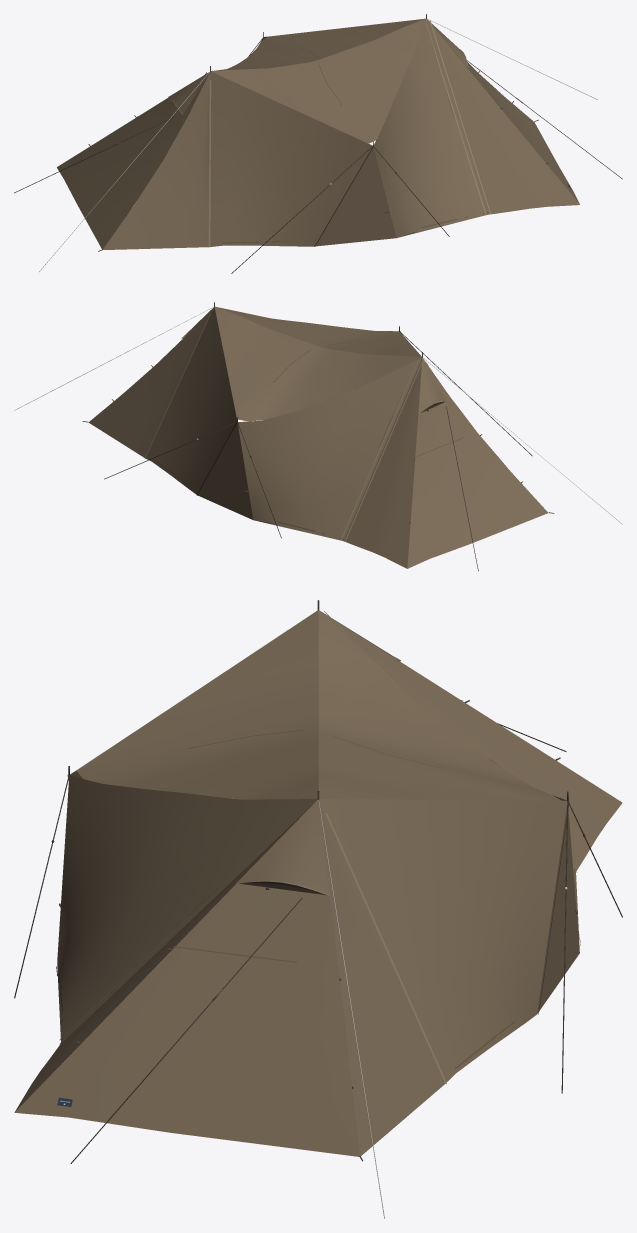
Rendered from snowpeak-land-station-m.glb.
3 renders of one model, top to bottom at view 1: azimuth 30°, elevation 25°; view 2: azimuth 150°, elevation 25°; view 3: azimuth 270°, elevation 25°, orthographic. The views are drawn at different scales.
Parts seen in each view (by area): view 1: snowpeak-land-station-m-body, snowpeak-land-station-m-seam, snowpeak-land-station-m-cord, snowpeak-land-station-m-guy; view 2: snowpeak-land-station-m-body, snowpeak-land-station-m-seam, snowpeak-land-station-m-cord, snowpeak-land-station-m-guy; view 3: snowpeak-land-station-m-body, snowpeak-land-station-m-seam, snowpeak-land-station-m-cord.
Boxes of the visible parts, x1=… form: snowpeak-land-station-m-body: x1=57, y1=18, x2=579, y2=250; snowpeak-land-station-m-seam: x1=168, y1=20, x2=490, y2=247; snowpeak-land-station-m-cord: x1=14, y1=37, x2=622, y2=273; snowpeak-land-station-m-guy: x1=39, y1=18, x2=597, y2=271; snowpeak-land-station-m-body: x1=88, y1=306, x2=547, y2=568; snowpeak-land-station-m-seam: x1=144, y1=314, x2=446, y2=541; snowpeak-land-station-m-cord: x1=82, y1=331, x2=554, y2=571; snowpeak-land-station-m-guy: x1=14, y1=307, x2=622, y2=524; snowpeak-land-station-m-body: x1=14, y1=610, x2=622, y2=1156; snowpeak-land-station-m-seam: x1=59, y1=611, x2=577, y2=1083; snowpeak-land-station-m-cord: x1=14, y1=723, x2=622, y2=1163.
Size of the model in its own units: 9.28 by 2.18 by 4.57.
